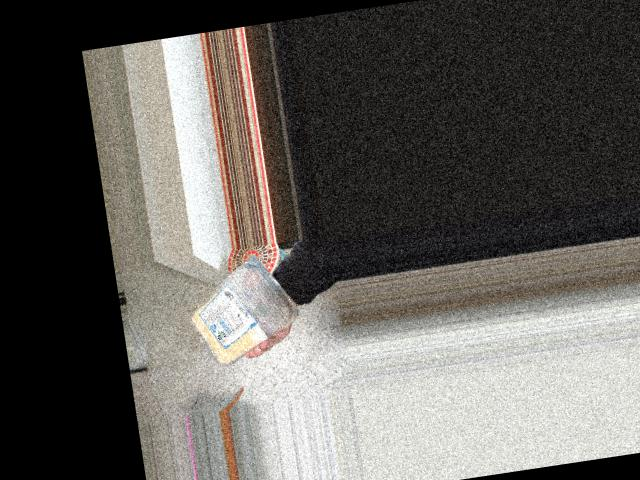cheese: (175, 254, 296, 360)
